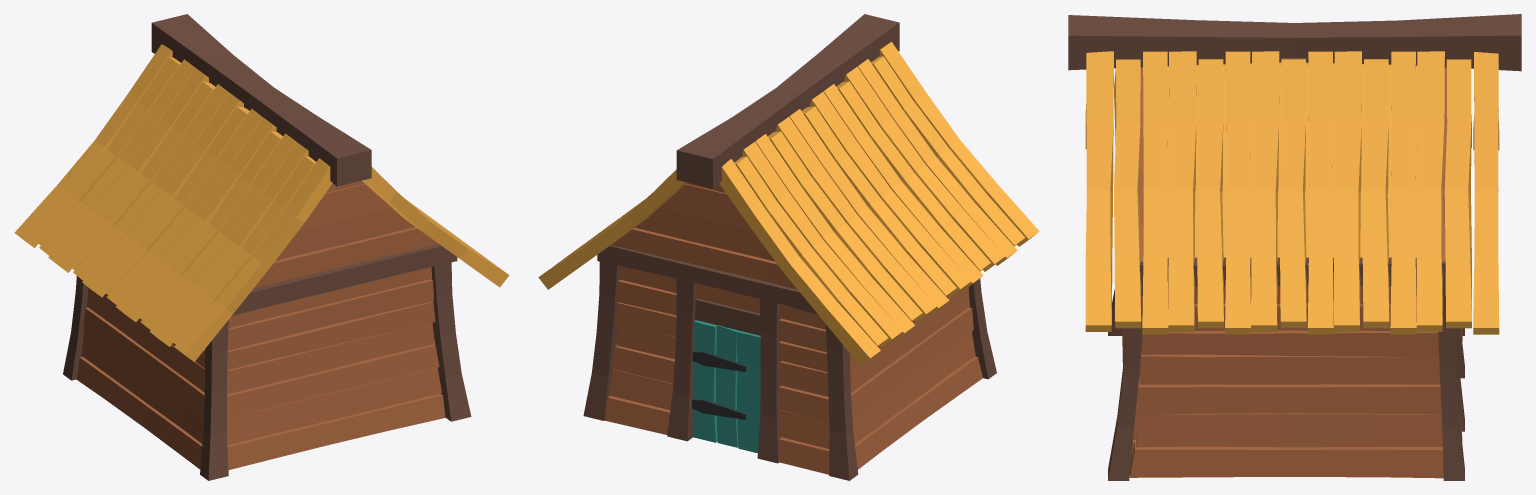
The model's file is Shed.fbx.
3 renders of one model, left to right at view 1: azimuth 30°, elevation 25°; view 2: azimuth 150°, elevation 25°; view 3: azimuth 270°, elevation 25°, orthographic. The views are drawn at different scales.
Parts seen in each view (by area): view 1: Shed; view 2: Shed; view 3: Shed.
Part boxes in pixels (x1=…): Shed: x1=14, y1=14, x2=509, y2=480; Shed: x1=538, y1=14, x2=1039, y2=480; Shed: x1=1068, y1=14, x2=1521, y2=480.
Size of the model in its own units: 620 by 556 by 606.
